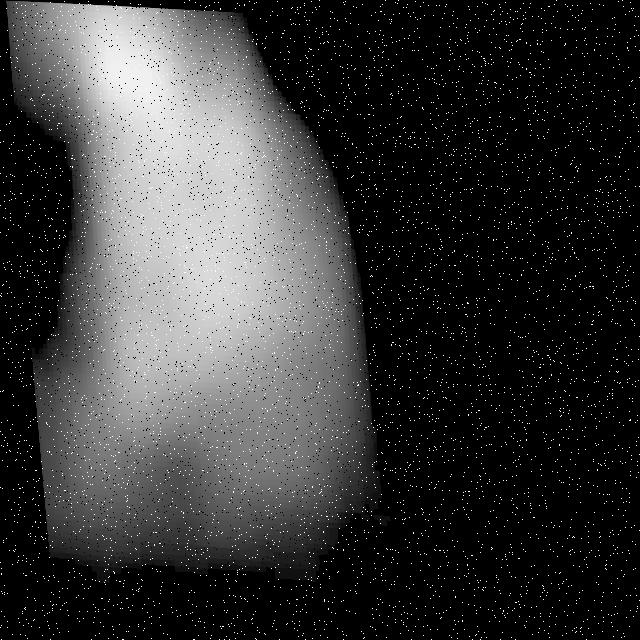person: (1, 1, 379, 523)
